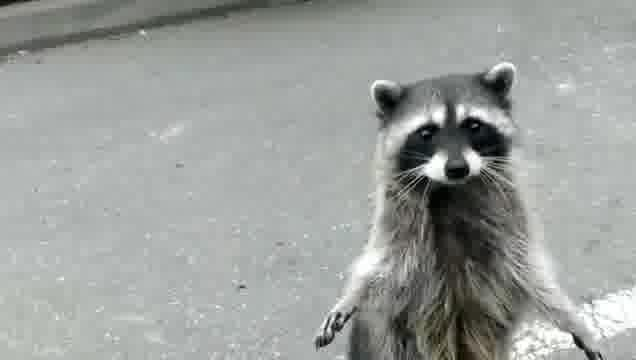raccoon: (313, 60, 608, 360)
